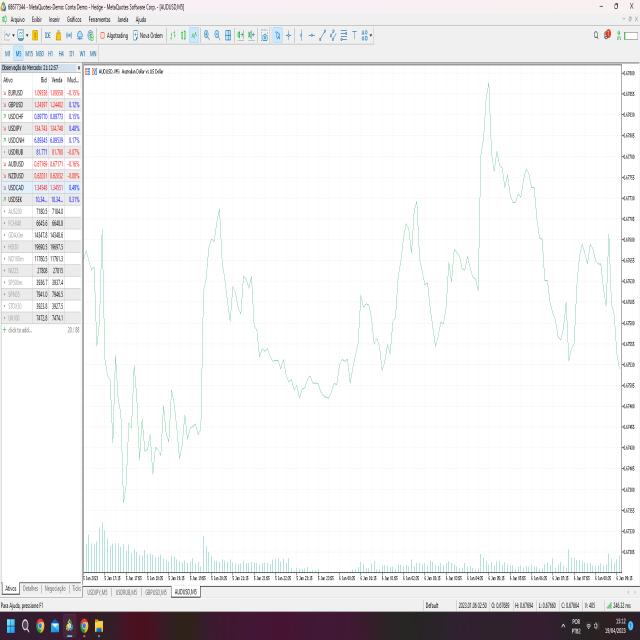oco_inv: (140, 422, 167, 482)
topo_duplo: (379, 137, 440, 334)
